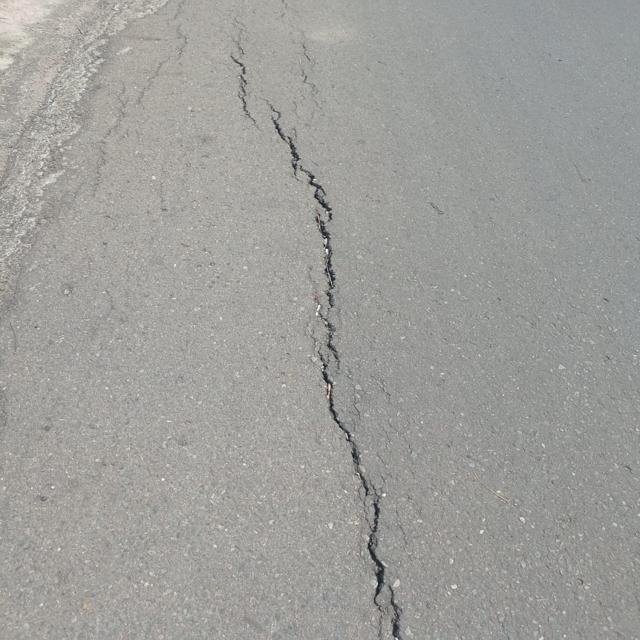Memanjang: (213, 42, 433, 640)
